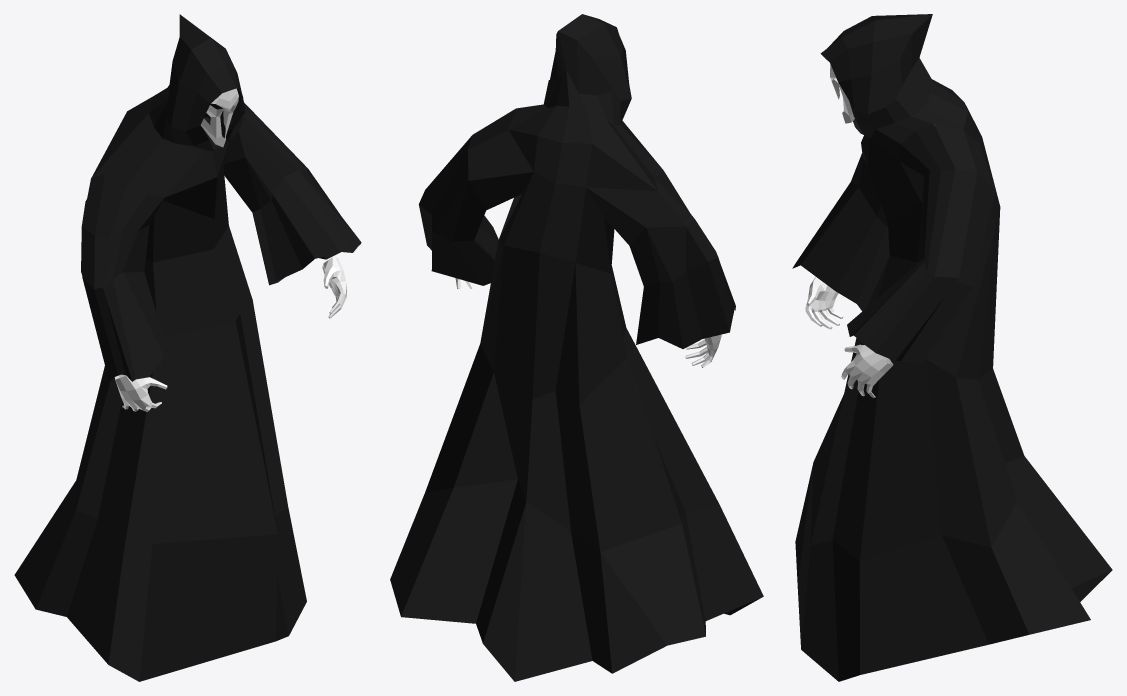
The model's file is ReaperWalk(0).obj.
3 renders of one model, left to right at view 1: azimuth 30°, elevation 25°; view 2: azimuth 150°, elevation 25°; view 3: azimuth 270°, elevation 25°, orthographic. The views are drawn at different scales.
Parts seen in each view (by area): view 1: Plane003; view 2: Plane003; view 3: Plane003.
Part boxes in pixels (x1=…): Plane003: x1=14, y1=14, x2=361, y2=681; Plane003: x1=390, y1=14, x2=763, y2=681; Plane003: x1=792, y1=14, x2=1112, y2=681.
Bounding box in the file's own units: 112 × 219 × 100.
